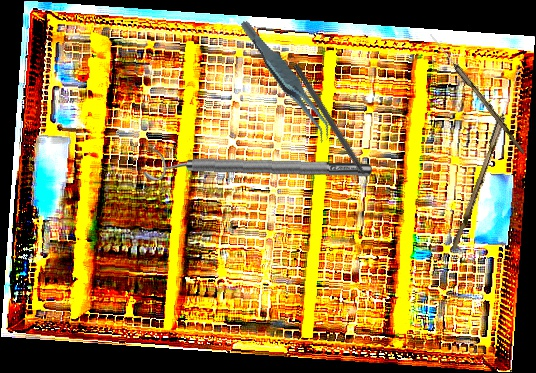Fixation Ring: (142, 145, 373, 190)
Hook Surgical: (291, 63, 377, 193)
Surgical Spoon: (451, 67, 523, 252), (427, 32, 528, 155)
Tissue Forceps: (238, 6, 335, 155)
